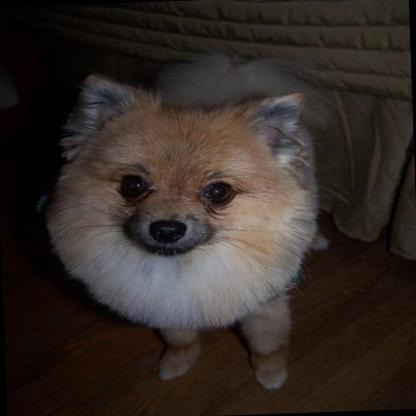Pomeranian: (38, 46, 344, 398)
